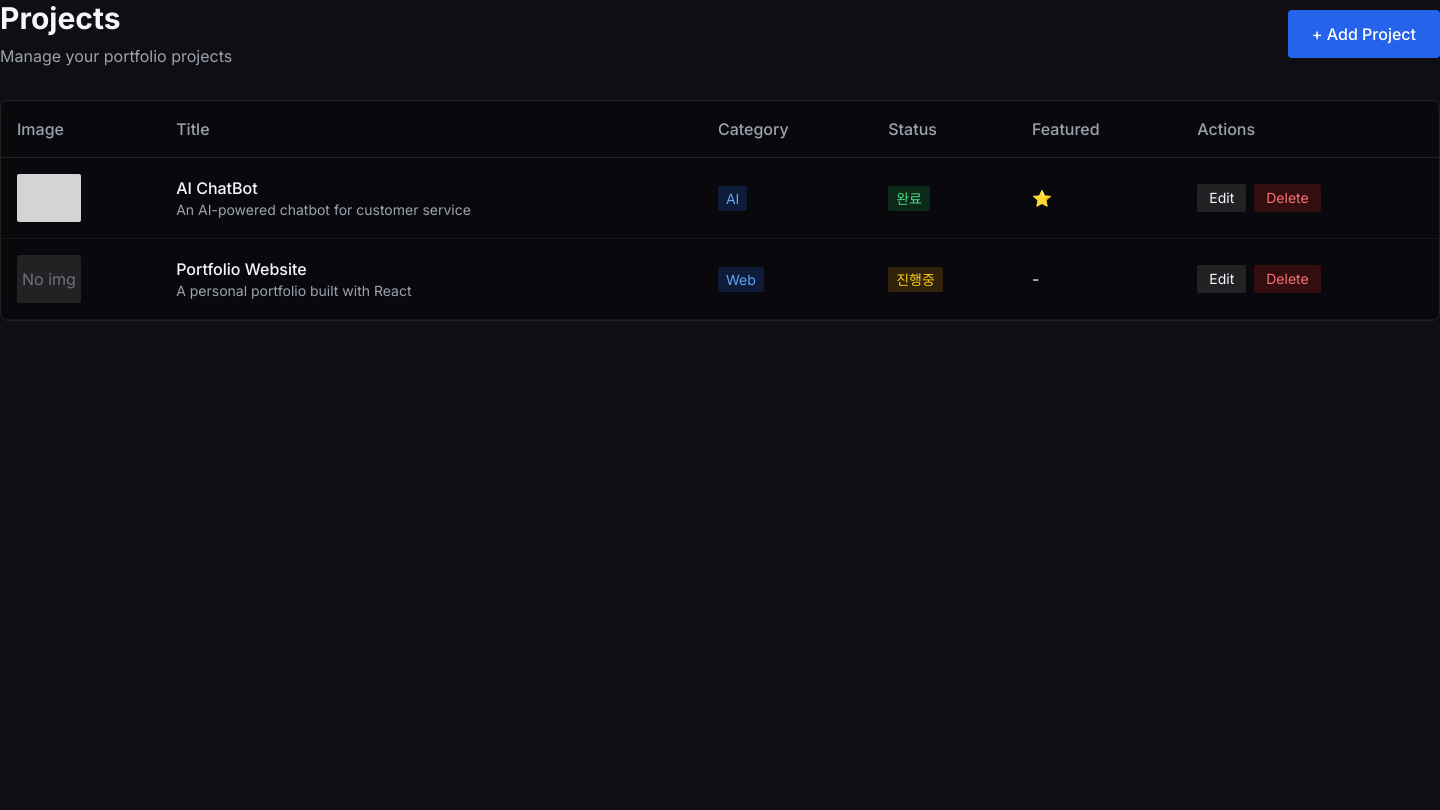
Scenario: ProjectsAdmin › clicking close button on modal closes it
Step 1. Click the button "+ Add Project" → (1364, 34), box top-left (1288, 10), bottom-right (1439, 58)
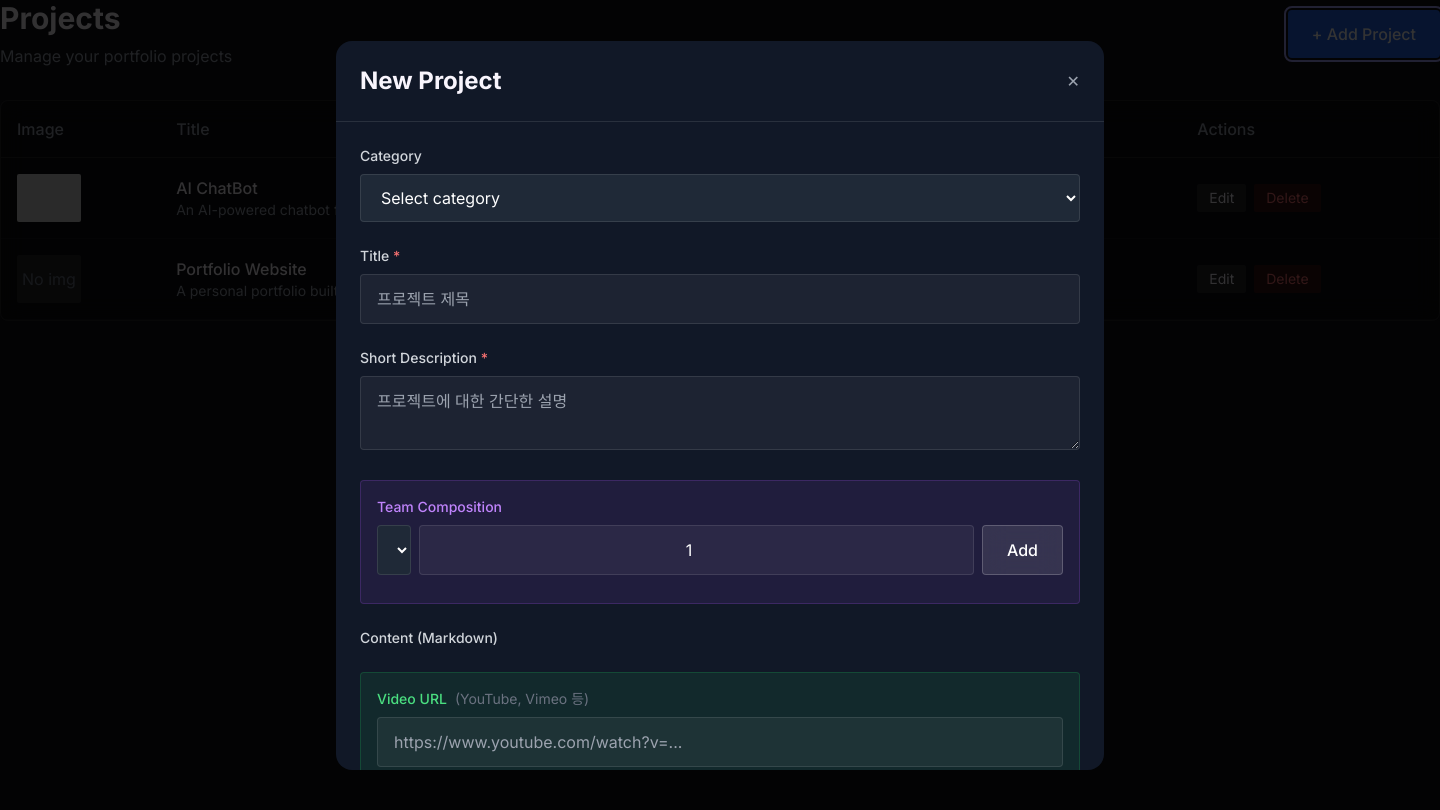
Now the heading "New Project" is shown, box top-left (360, 64), bottom-right (502, 96)
# The close button has text content of a unicode character
Step 2. Click the button "✕" → (1073, 80), box top-left (1067, 68), bottom-right (1080, 92)
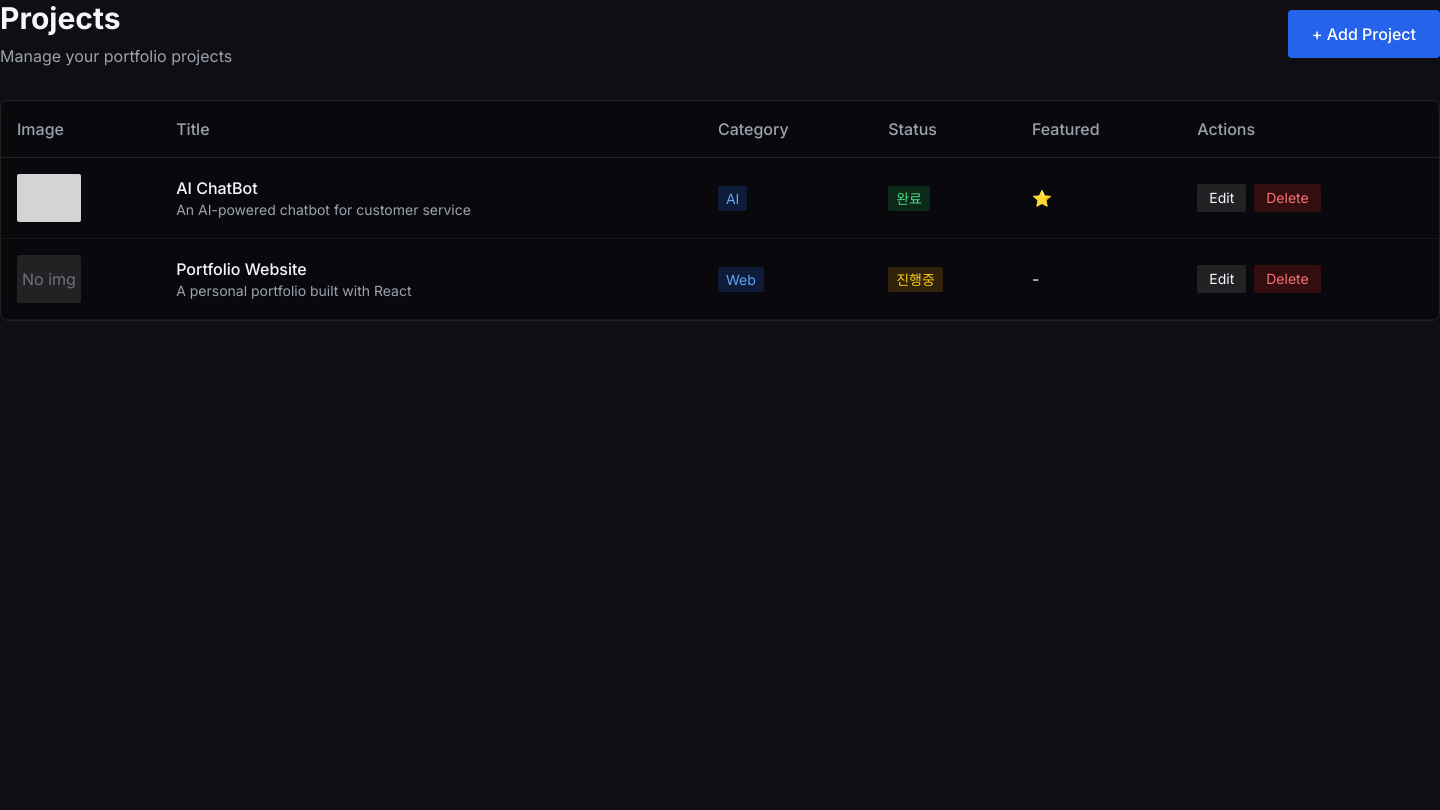
Now the heading "New Project" is gone
